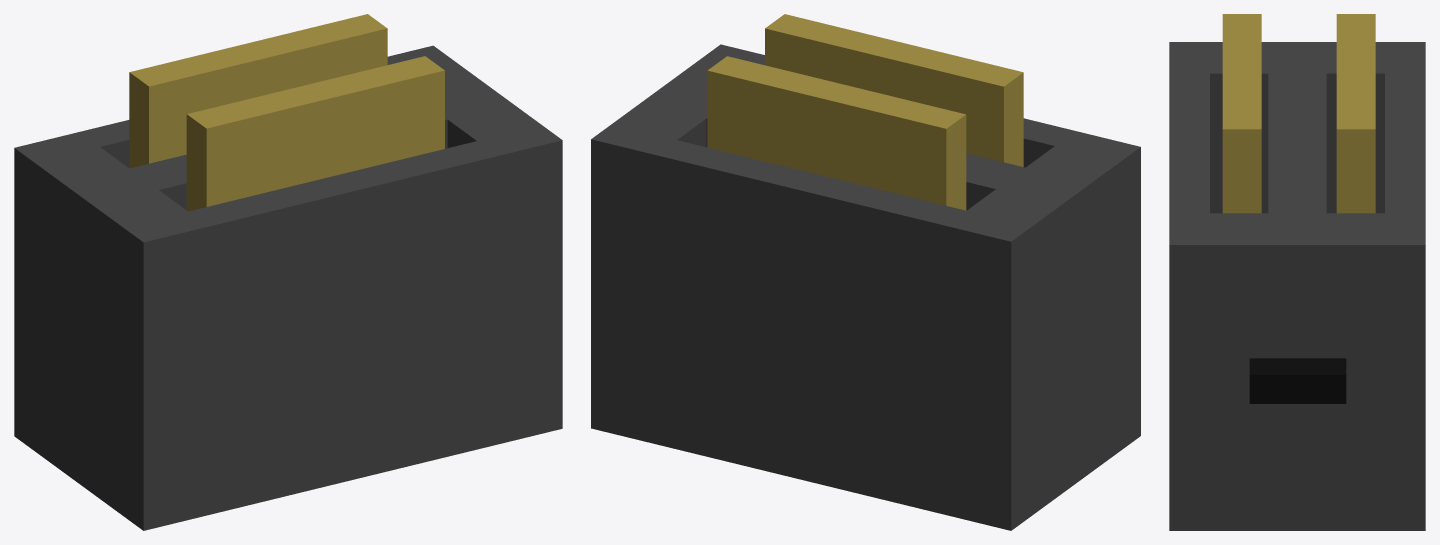
Rendered from Toaster.FBX.
3 views of the same model, side by side, from view 1: azimuth 30°, elevation 25°; view 2: azimuth 150°, elevation 25°; view 3: azimuth 270°, elevation 25° (orthographic).
Parts seen in each view (by area): view 1: Kitchen_Toaster01, Kitchen_Toaster_Toast02, Kitchen_Toaster_Toast01; view 2: Kitchen_Toaster01, Kitchen_Toaster_Toast01, Kitchen_Toaster_Toast02; view 3: Kitchen_Toaster01, Kitchen_Toaster_Toast01, Kitchen_Toaster_Toast02.
Boxes of the visible parts, bbox=[...] form: Kitchen_Toaster01: bbox=[14, 45, 562, 530]; Kitchen_Toaster_Toast02: bbox=[186, 56, 444, 211]; Kitchen_Toaster_Toast01: bbox=[129, 14, 387, 168]; Kitchen_Toaster01: bbox=[591, 44, 1140, 530]; Kitchen_Toaster_Toast01: bbox=[707, 56, 966, 210]; Kitchen_Toaster_Toast02: bbox=[765, 14, 1023, 166]; Kitchen_Toaster01: bbox=[1169, 42, 1425, 530]; Kitchen_Toaster_Toast01: bbox=[1336, 14, 1375, 213]; Kitchen_Toaster_Toast02: bbox=[1222, 14, 1261, 213].
Bounding box in the file's own units: 72.74 × 55.35 × 35.98.
